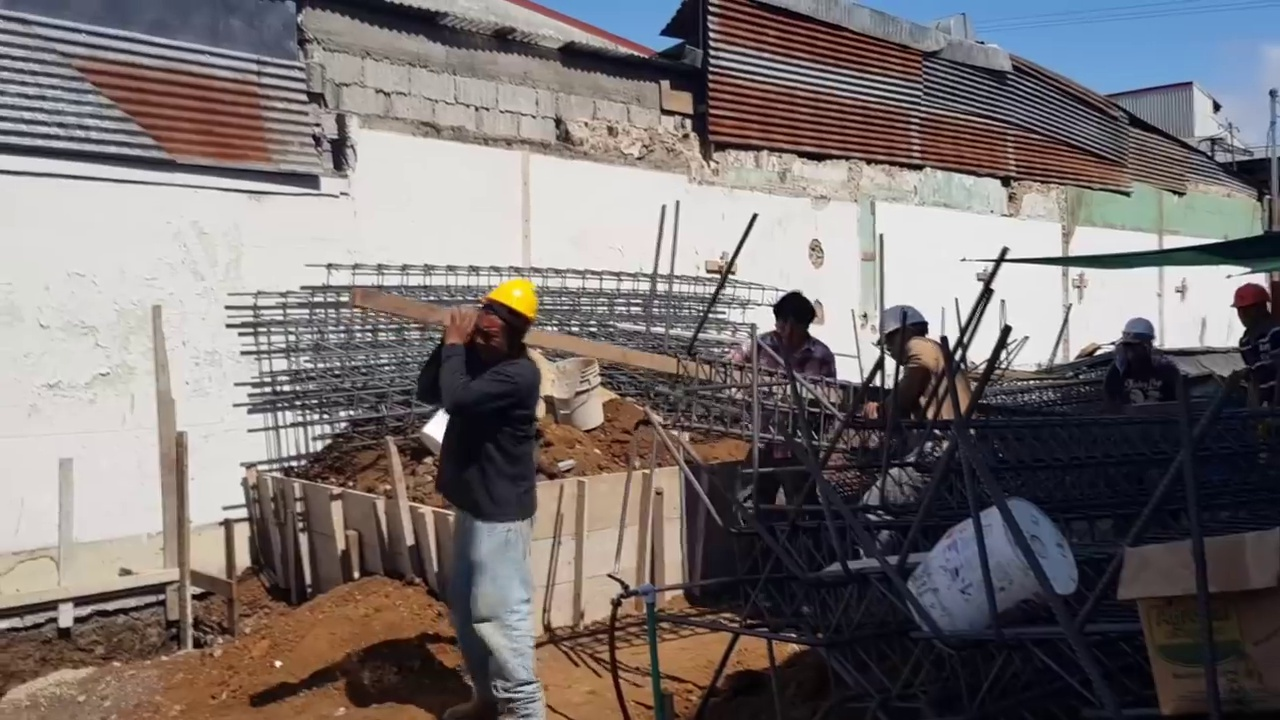helmet: (480, 276, 537, 324), (876, 305, 930, 346), (1230, 277, 1271, 312), (1122, 323, 1161, 350)
helmet-off: (773, 291, 821, 360)
helmet-on: (467, 276, 540, 359), (875, 308, 929, 364), (1116, 316, 1162, 369), (1230, 278, 1272, 336)
person: (422, 257, 557, 707), (735, 290, 838, 509), (857, 307, 949, 462), (1230, 279, 1273, 429), (1112, 323, 1176, 408)
